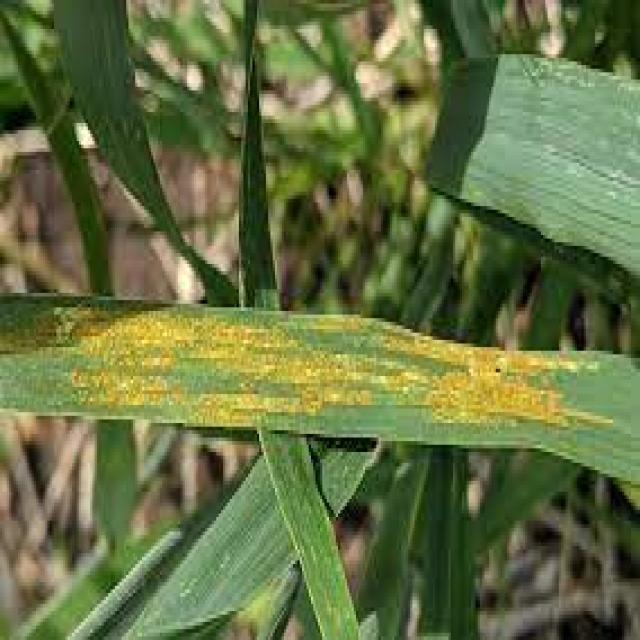leaf rust: (9, 279, 581, 441)
